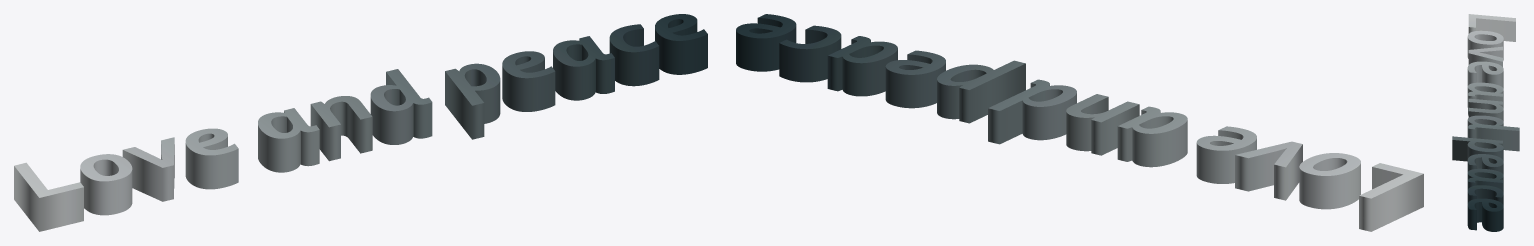
The picture shows the model from 3 angles, left to right: view 1: azimuth 30°, elevation 25°; view 2: azimuth 150°, elevation 25°; view 3: azimuth 270°, elevation 25°; orthographic projection. The views are drawn at different scales.
Visible parts, largest first — view 1: 文字.006; view 2: 文字.006; view 3: 文字.006.
Part boxes in pixels (box(x1,y1,x2,y2)): 文字.006: box(14, 14, 707, 231); 文字.006: box(736, 14, 1423, 231); 文字.006: box(1452, 14, 1519, 231).
Bounding box in the file's own units: 5.43 × 0.26 × 0.784.
Materials: 1 (1 with a texture image).
